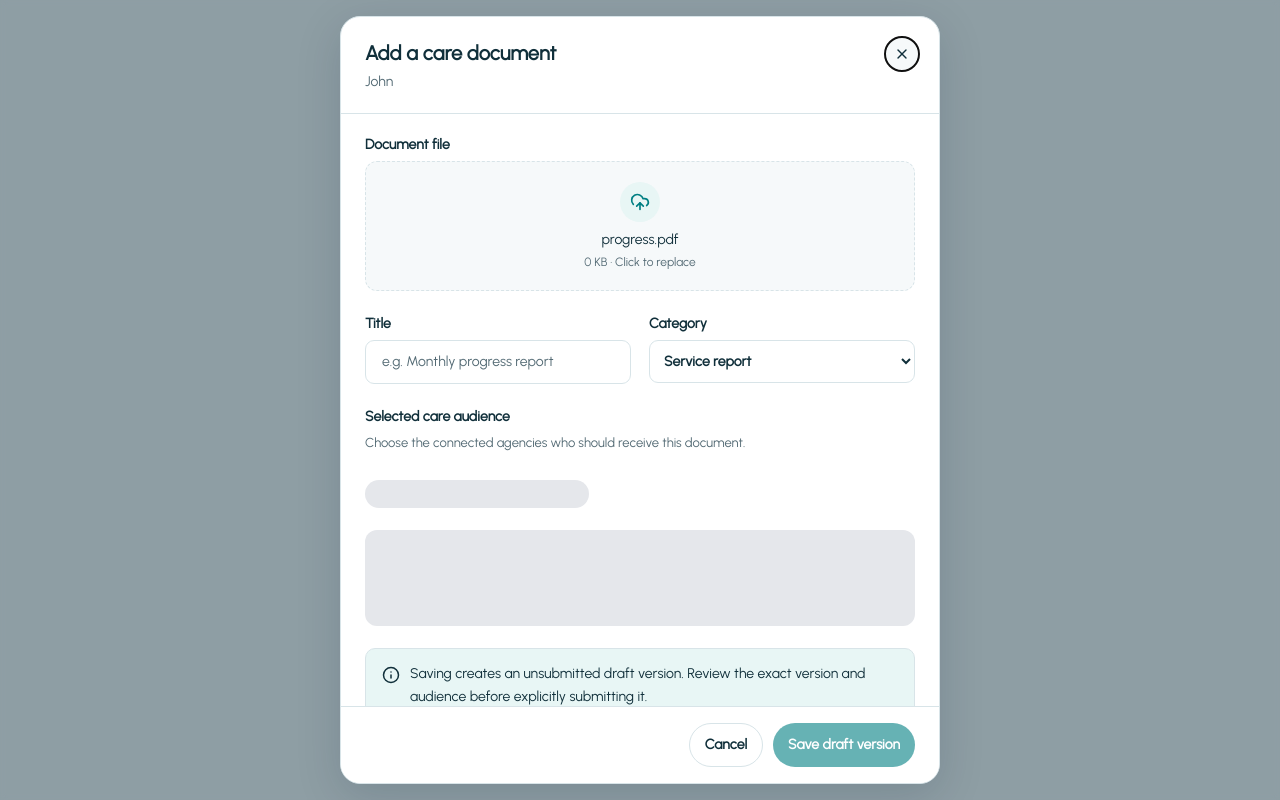
validates the document dropzone and saves its selected file as a draft version
Earlier steps of the test are not shown.
Later steps or results of the test are not shown.
Expected: the text "progress.pdf" is shown, [602, 231, 678, 248]
In the field labelled "Title": x=498, y=362 [365, 340, 631, 384], type "Progress report"
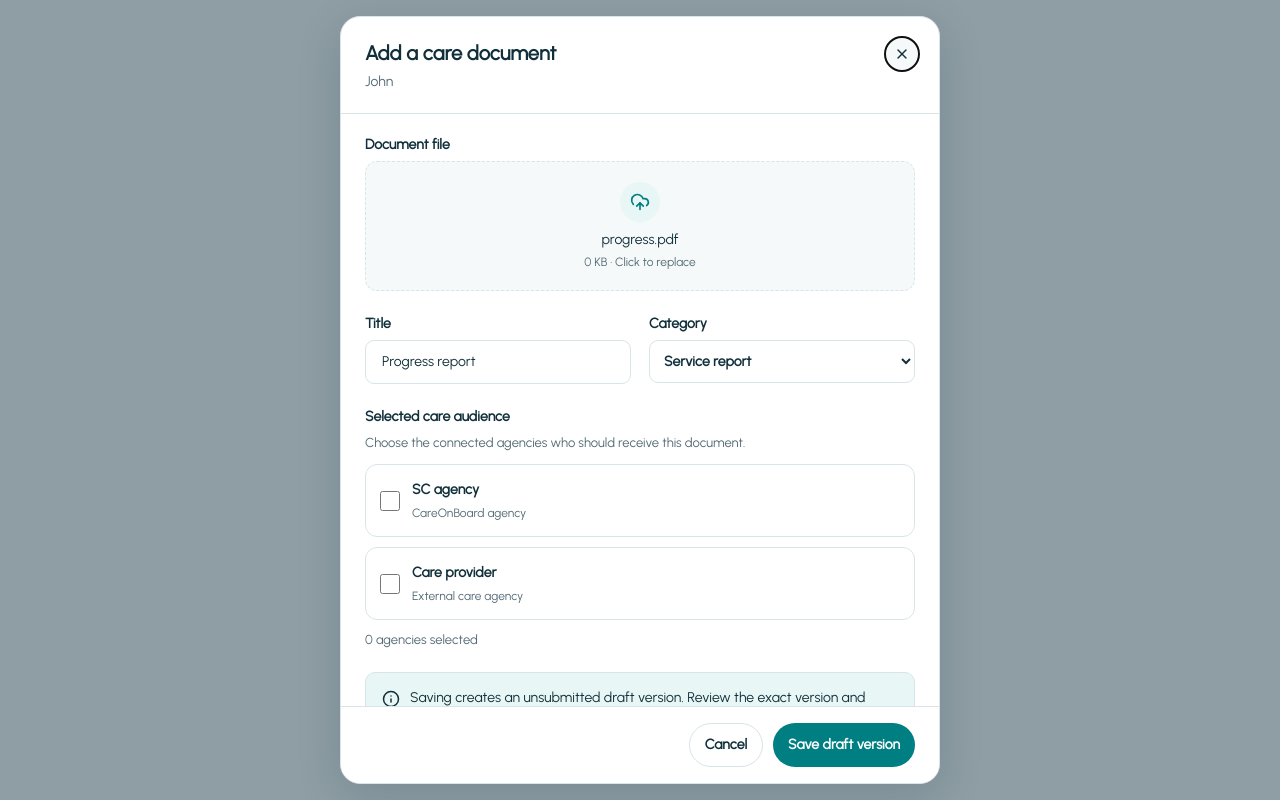
Result: the checkbox labelled "SC agency" is not checked
Result: the checkbox labelled "Care provider" is not checked at [380, 574, 400, 594]
Result: the text "0 agencies selected" is shown at [365, 632, 478, 648]
Click the checkbox labelled "SC agency": x=390, y=501 [380, 491, 400, 511]
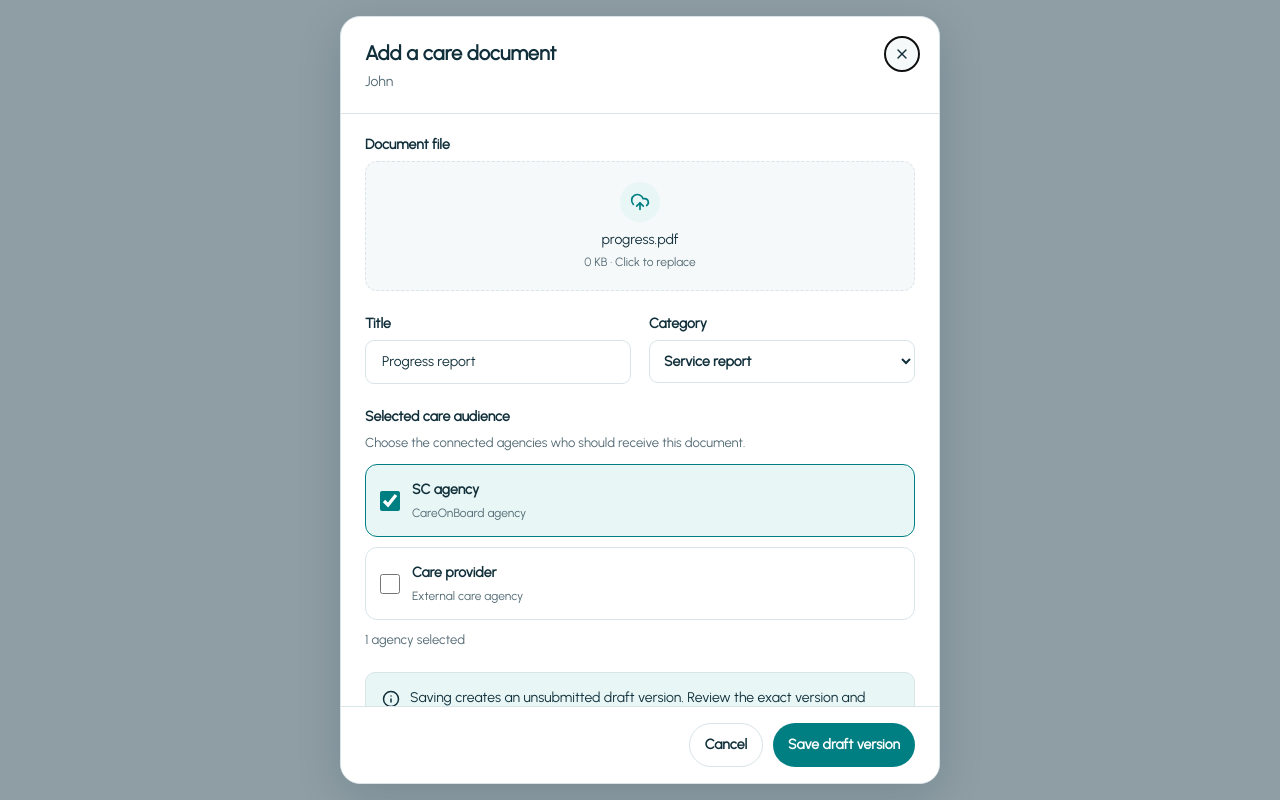
Click the checkbox labelled "Care provider": x=390, y=584 [380, 574, 400, 594]
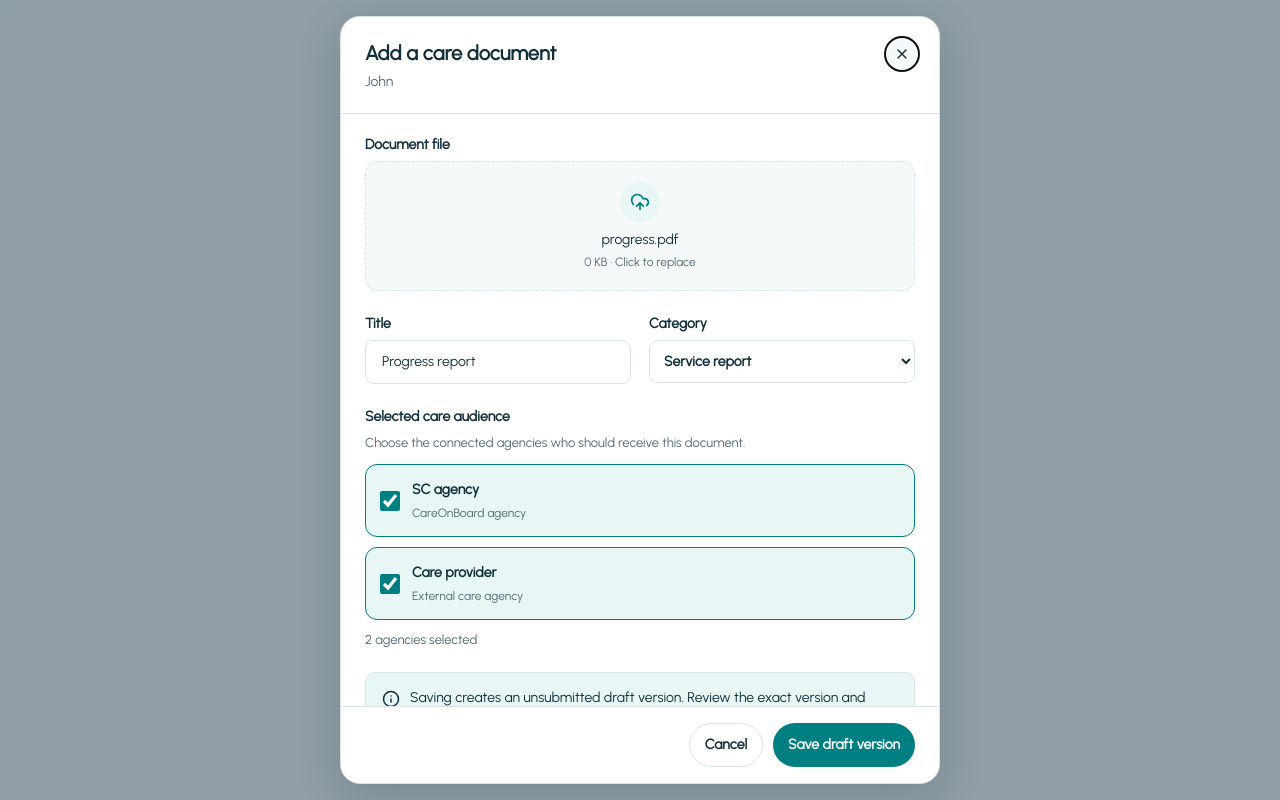
Result: the text "2 agencies selected" is shown at [365, 632, 477, 648]
Click the checkbox labelled "SC agency": x=390, y=501 [380, 491, 400, 511]
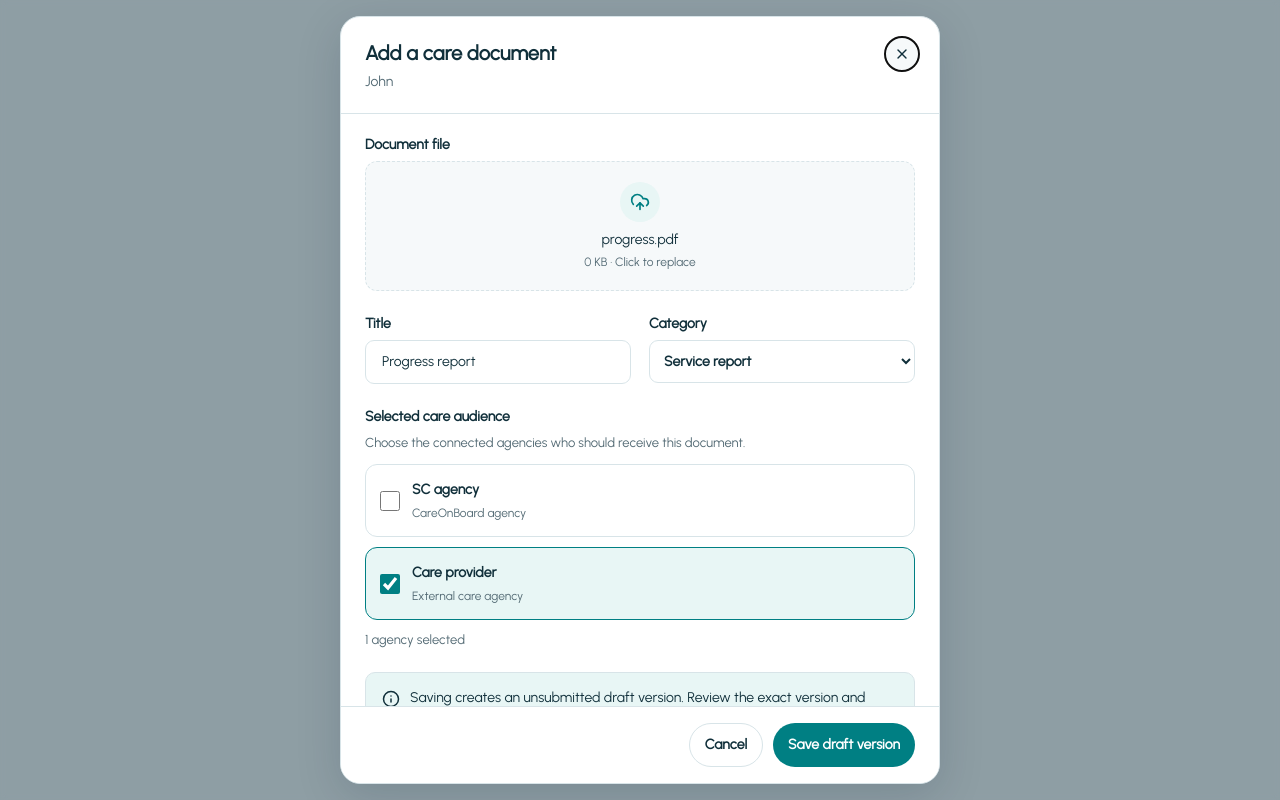
Result: the checkbox labelled "SC agency" is not checked at [380, 491, 400, 511]
Result: the checkbox labelled "Care provider" is checked at [380, 574, 400, 594]
Result: the text "1 agency selected" is shown at [365, 632, 465, 648]
